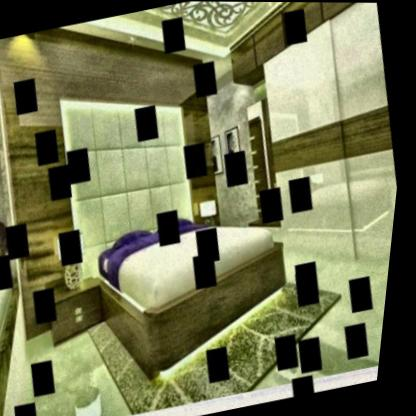Bed: (77, 177, 311, 355)
Closet: (233, 6, 416, 318)
Nightstand: (43, 270, 124, 348)
